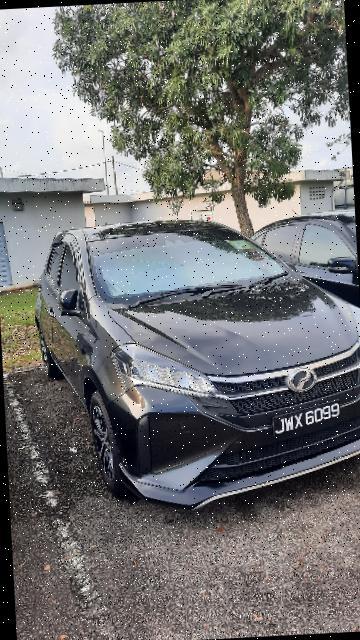License_Plate: (260, 394, 347, 443)
car: (26, 205, 360, 527)
